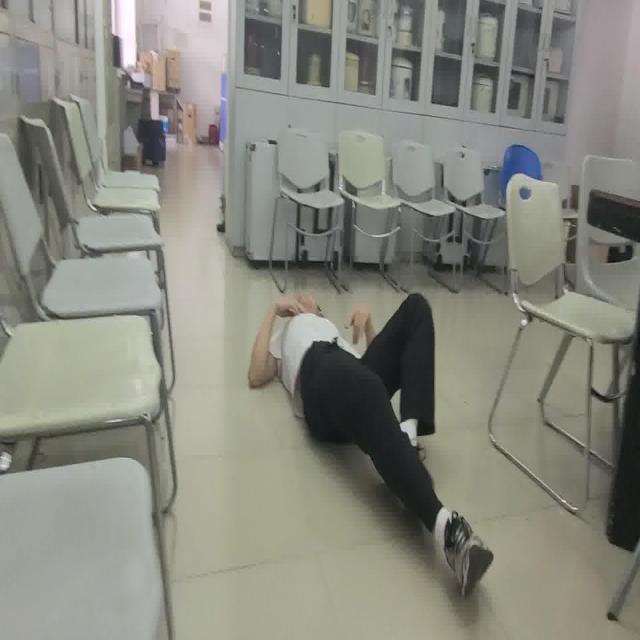fall: (247, 286, 496, 596)
